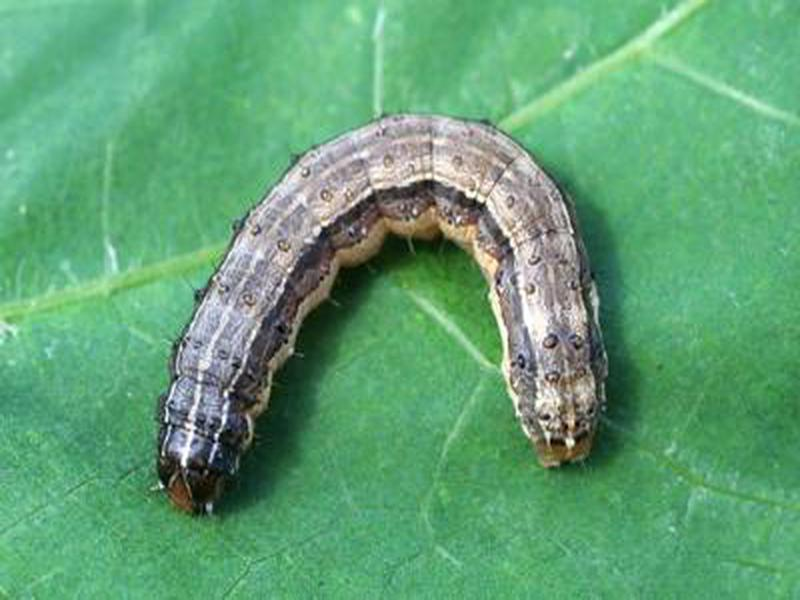Armyworms: (139, 111, 634, 512)
